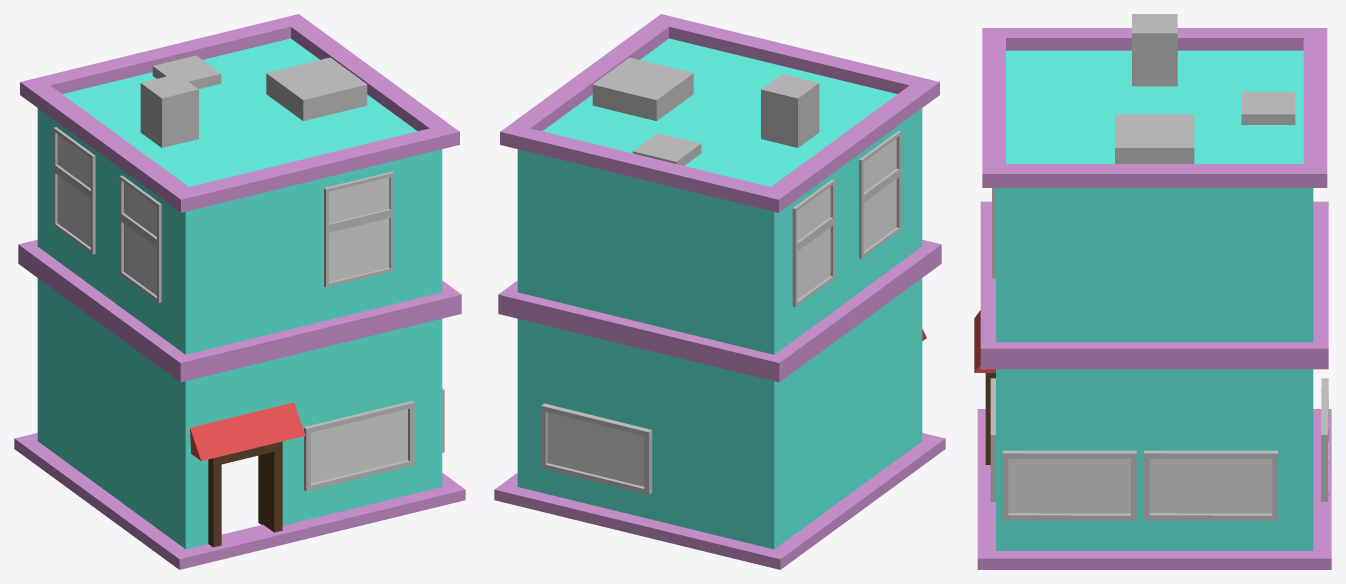
The model's file is HOUSE_V3.fbx.
The picture shows the model from 3 angles, left to right: view 1: azimuth 30°, elevation 25°; view 2: azimuth 150°, elevation 25°; view 3: azimuth 270°, elevation 25°; orthographic projection. The views are drawn at different scales.
Parts seen in each view (by area): view 1: Cube.001; view 2: Cube.001; view 3: Cube.001.
Boxes of the visible parts, x1,y1,x2,y2 form: Cube.001: (14,14,465,569); Cube.001: (494,14,945,569); Cube.001: (974,14,1331,569).
Size of the model in its own units: 46.34 by 62.8 by 46.79.
